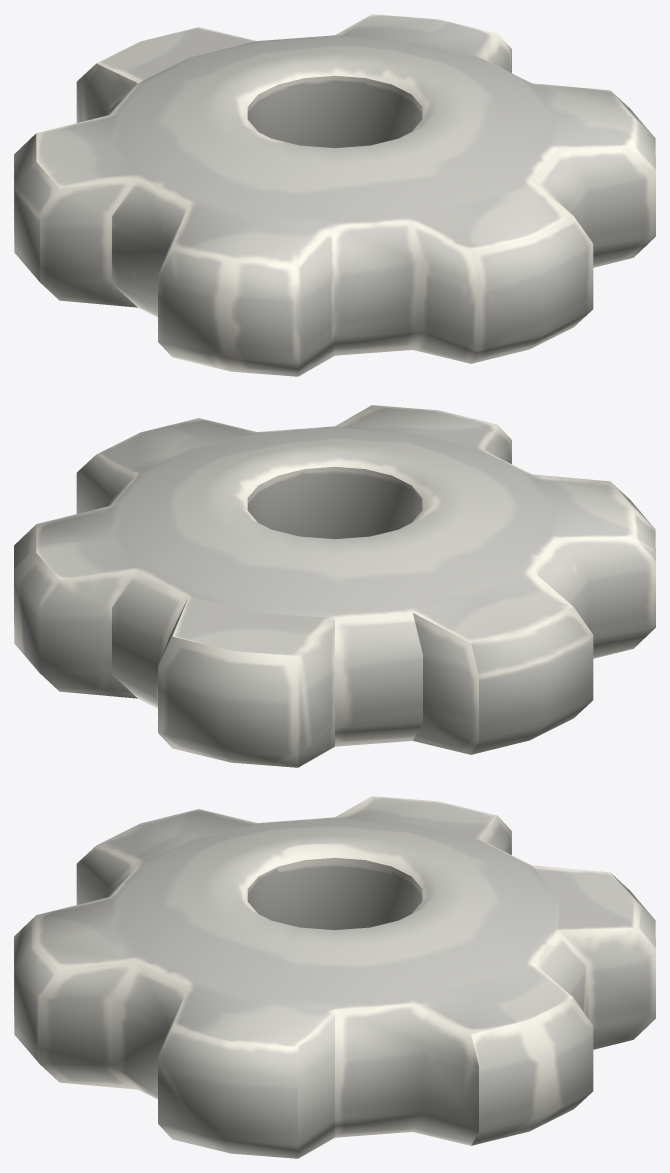
File: gear.FBX
The picture shows the model from 3 angles, top to bottom: view 1: azimuth 30°, elevation 25°; view 2: azimuth 150°, elevation 25°; view 3: azimuth 270°, elevation 25°; orthographic projection.
Parts seen in each view (by area): view 1: gear; view 2: gear; view 3: gear.
Boxes of the visible parts, box(x1,y1,x2,y2) form: gear: box(14, 14, 655, 376); gear: box(14, 405, 655, 767); gear: box(14, 796, 655, 1158).
Bounding box in the file's own units: 1.99 × 0.624 × 2.
